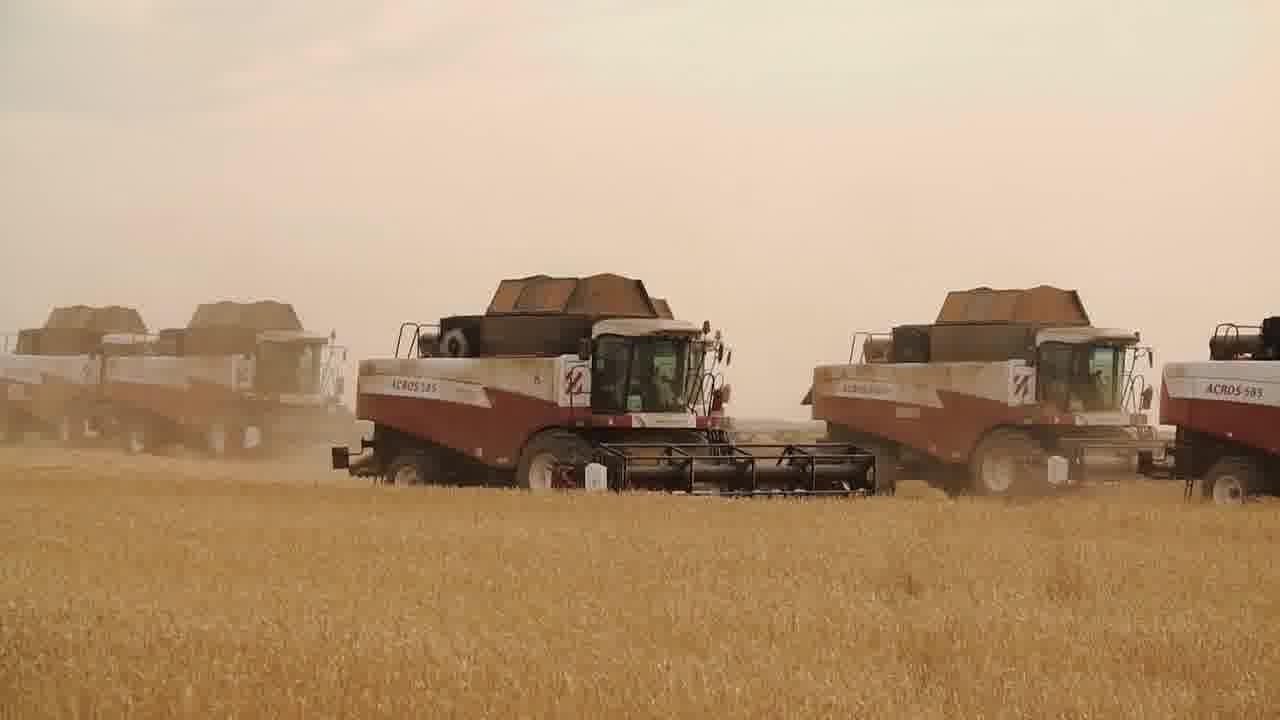combine harvester: (327, 269, 886, 509), (793, 280, 1158, 498), (85, 294, 350, 473), (1134, 310, 1280, 512), (0, 297, 139, 466)
